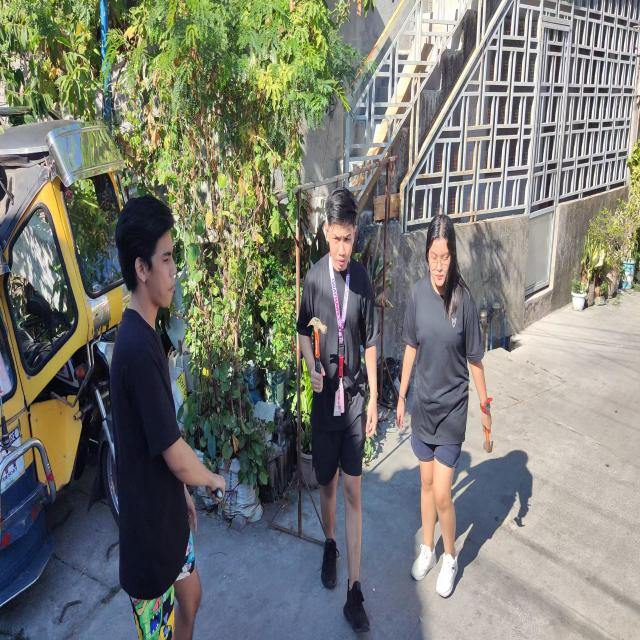hammer: (306, 317, 328, 373), (483, 426, 493, 453)
